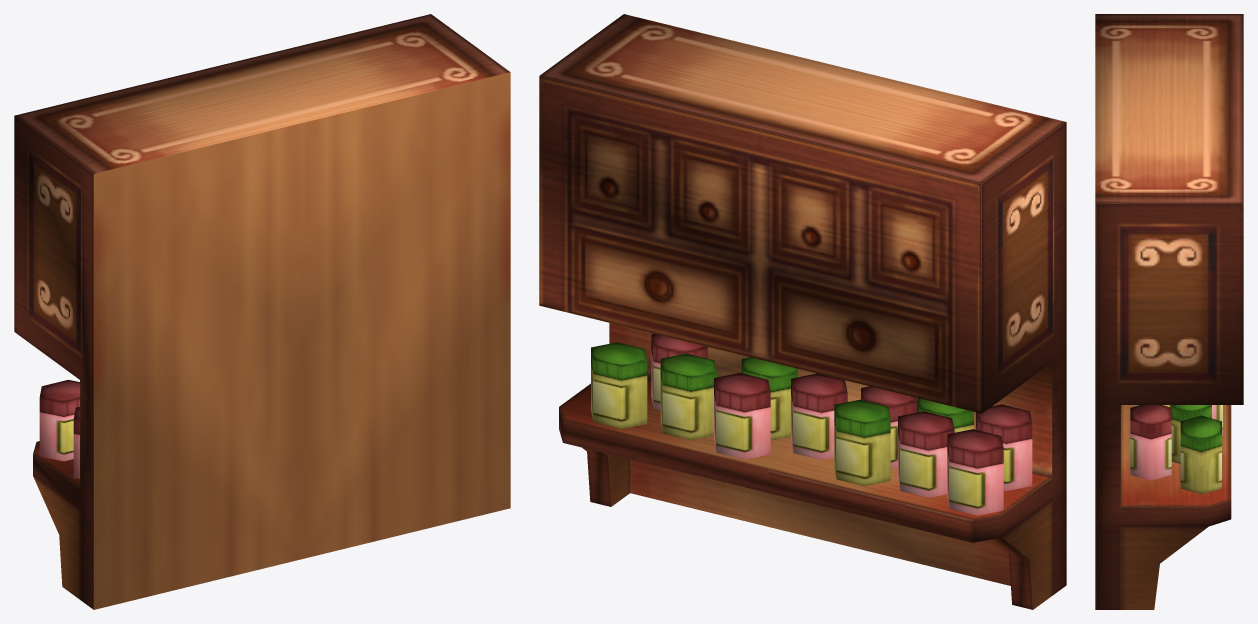
The model's file is a_SWIrack01.glb.
3 views of the same model, side by side, from view 1: azimuth 30°, elevation 25°; view 2: azimuth 150°, elevation 25°; view 3: azimuth 270°, elevation 25° (orthographic). The views are drawn at different scales.
Parts seen in each view (by area): view 1: a_SWIrack01; view 2: a_SWIrack01; view 3: a_SWIrack01.
Boxes of the visible parts, x1,y1,x2,y2 form: a_SWIrack01: [14, 14, 510, 609]; a_SWIrack01: [539, 14, 1066, 609]; a_SWIrack01: [1095, 14, 1243, 609].
Bounding box in the file's own units: 2 × 2 × 0.6611.
1 material, 1 textured.
